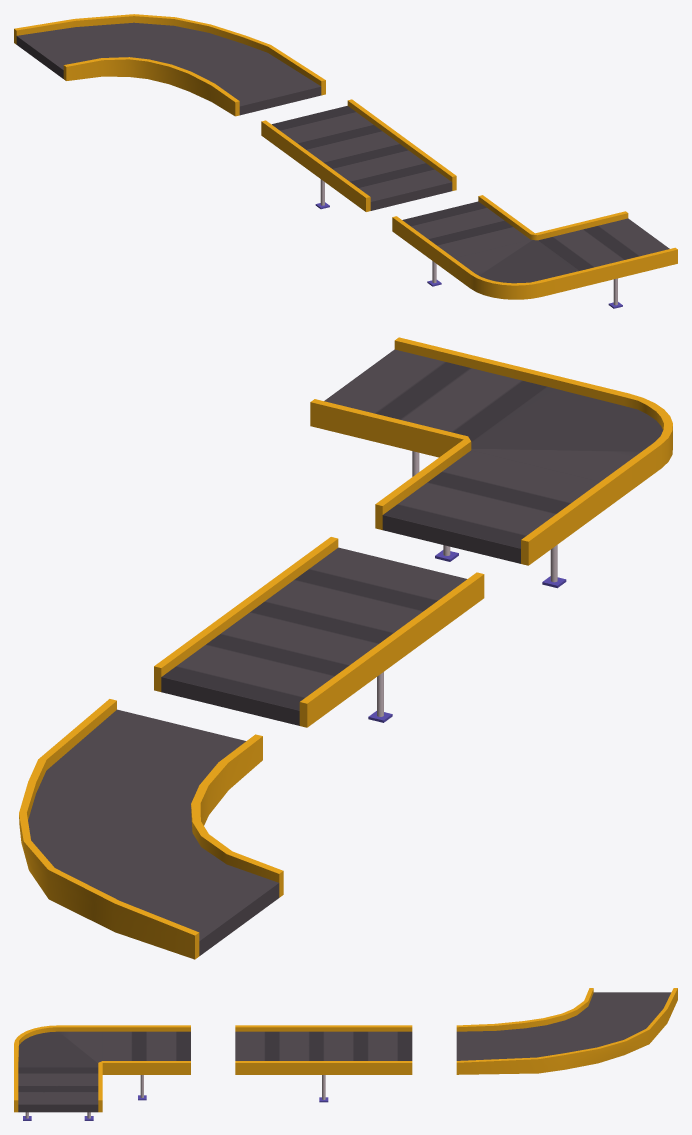
File: lenta.fbx
3 renders of one model, top to bottom at view 1: azimuth 30°, elevation 25°; view 2: azimuth 150°, elevation 25°; view 3: azimuth 270°, elevation 25°, orthographic. The views are drawn at different scales.
Parts seen in each view (by area): view 1: Cube.004, Cylinder.001, Cylinder; view 2: Cylinder.001, Cube.004, Cylinder; view 3: Cylinder.001, Cube.004, Cylinder.
Boxes of the visible parts, x1=… form: Cube.004: x1=14, y1=14, x2=325, y2=116; Cylinder.001: x1=392, y1=195, x2=677, y2=308; Cylinder: x1=261, y1=99, x2=456, y2=211; Cylinder.001: x1=310, y1=337, x2=672, y2=588; Cube.004: x1=19, y1=699, x2=283, y2=959; Cylinder: x1=154, y1=537, x2=484, y2=727; Cylinder.001: x1=14, y1=1025, x2=190, y2=1120; Cube.004: x1=456, y1=988, x2=677, y2=1074; Cylinder: x1=235, y1=1025, x2=412, y2=1102.
Bounding box in the file's own units: 6 × 1.06 × 15.
Materials: 2 (2 with a texture image).
